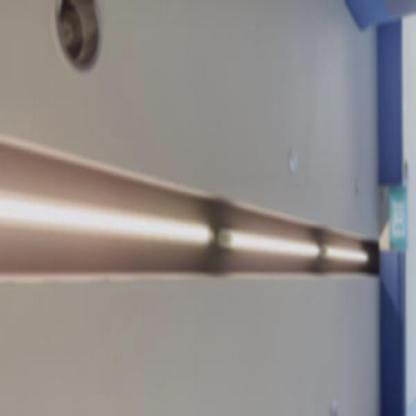light_on: (0, 181, 214, 247), (219, 225, 322, 265), (324, 231, 370, 265)
